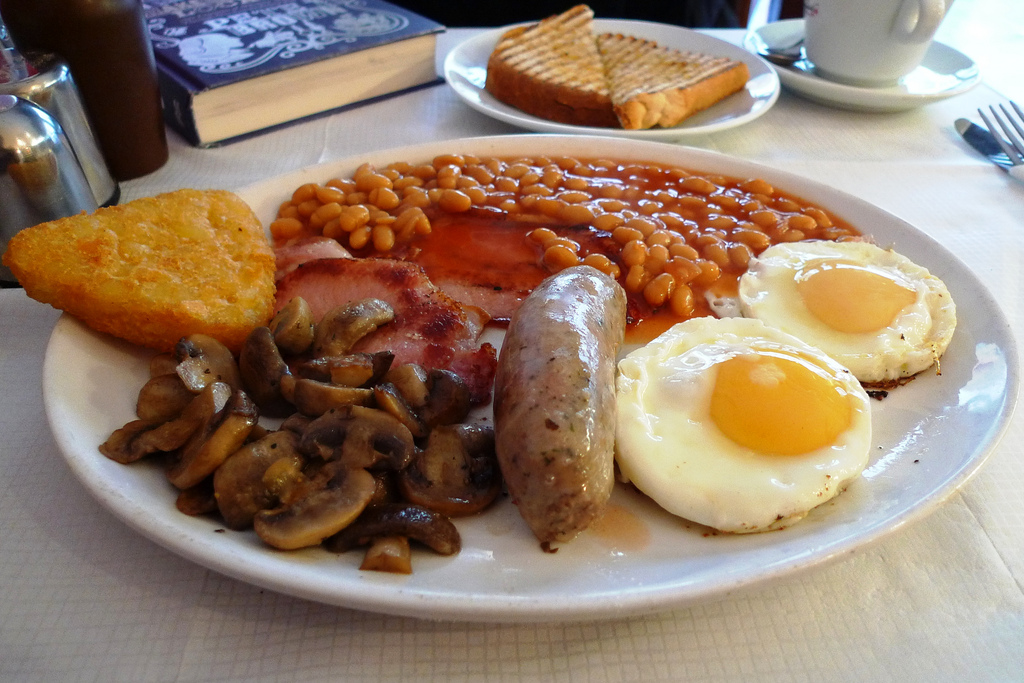fried egg: (618, 328, 871, 529), (742, 237, 945, 368)
slice of bread: (484, 10, 751, 130)
